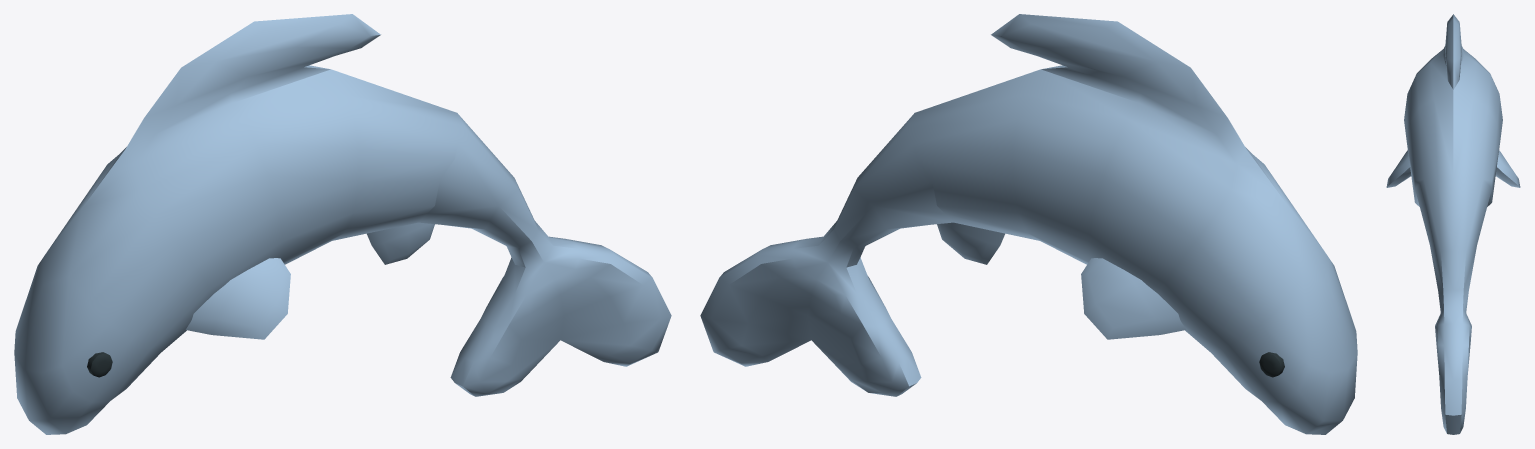
Rendered from fish_large_B.gltf.glb.
3 renders of one model, left to right at view 1: azimuth 30°, elevation 25°; view 2: azimuth 150°, elevation 25°; view 3: azimuth 270°, elevation 25°, orthographic. The views are drawn at different scales.
Parts seen in each view (by area): view 1: fish_large_B; view 2: fish_large_B; view 3: fish_large_B.
Part boxes in pixels (box(x1,y1,x2,y2)): fish_large_B: box(14, 14, 671, 434); fish_large_B: box(700, 14, 1357, 434); fish_large_B: box(1386, 14, 1520, 434).
Size of the model in its own units: 0.9666 by 0.6255 by 0.2599.
